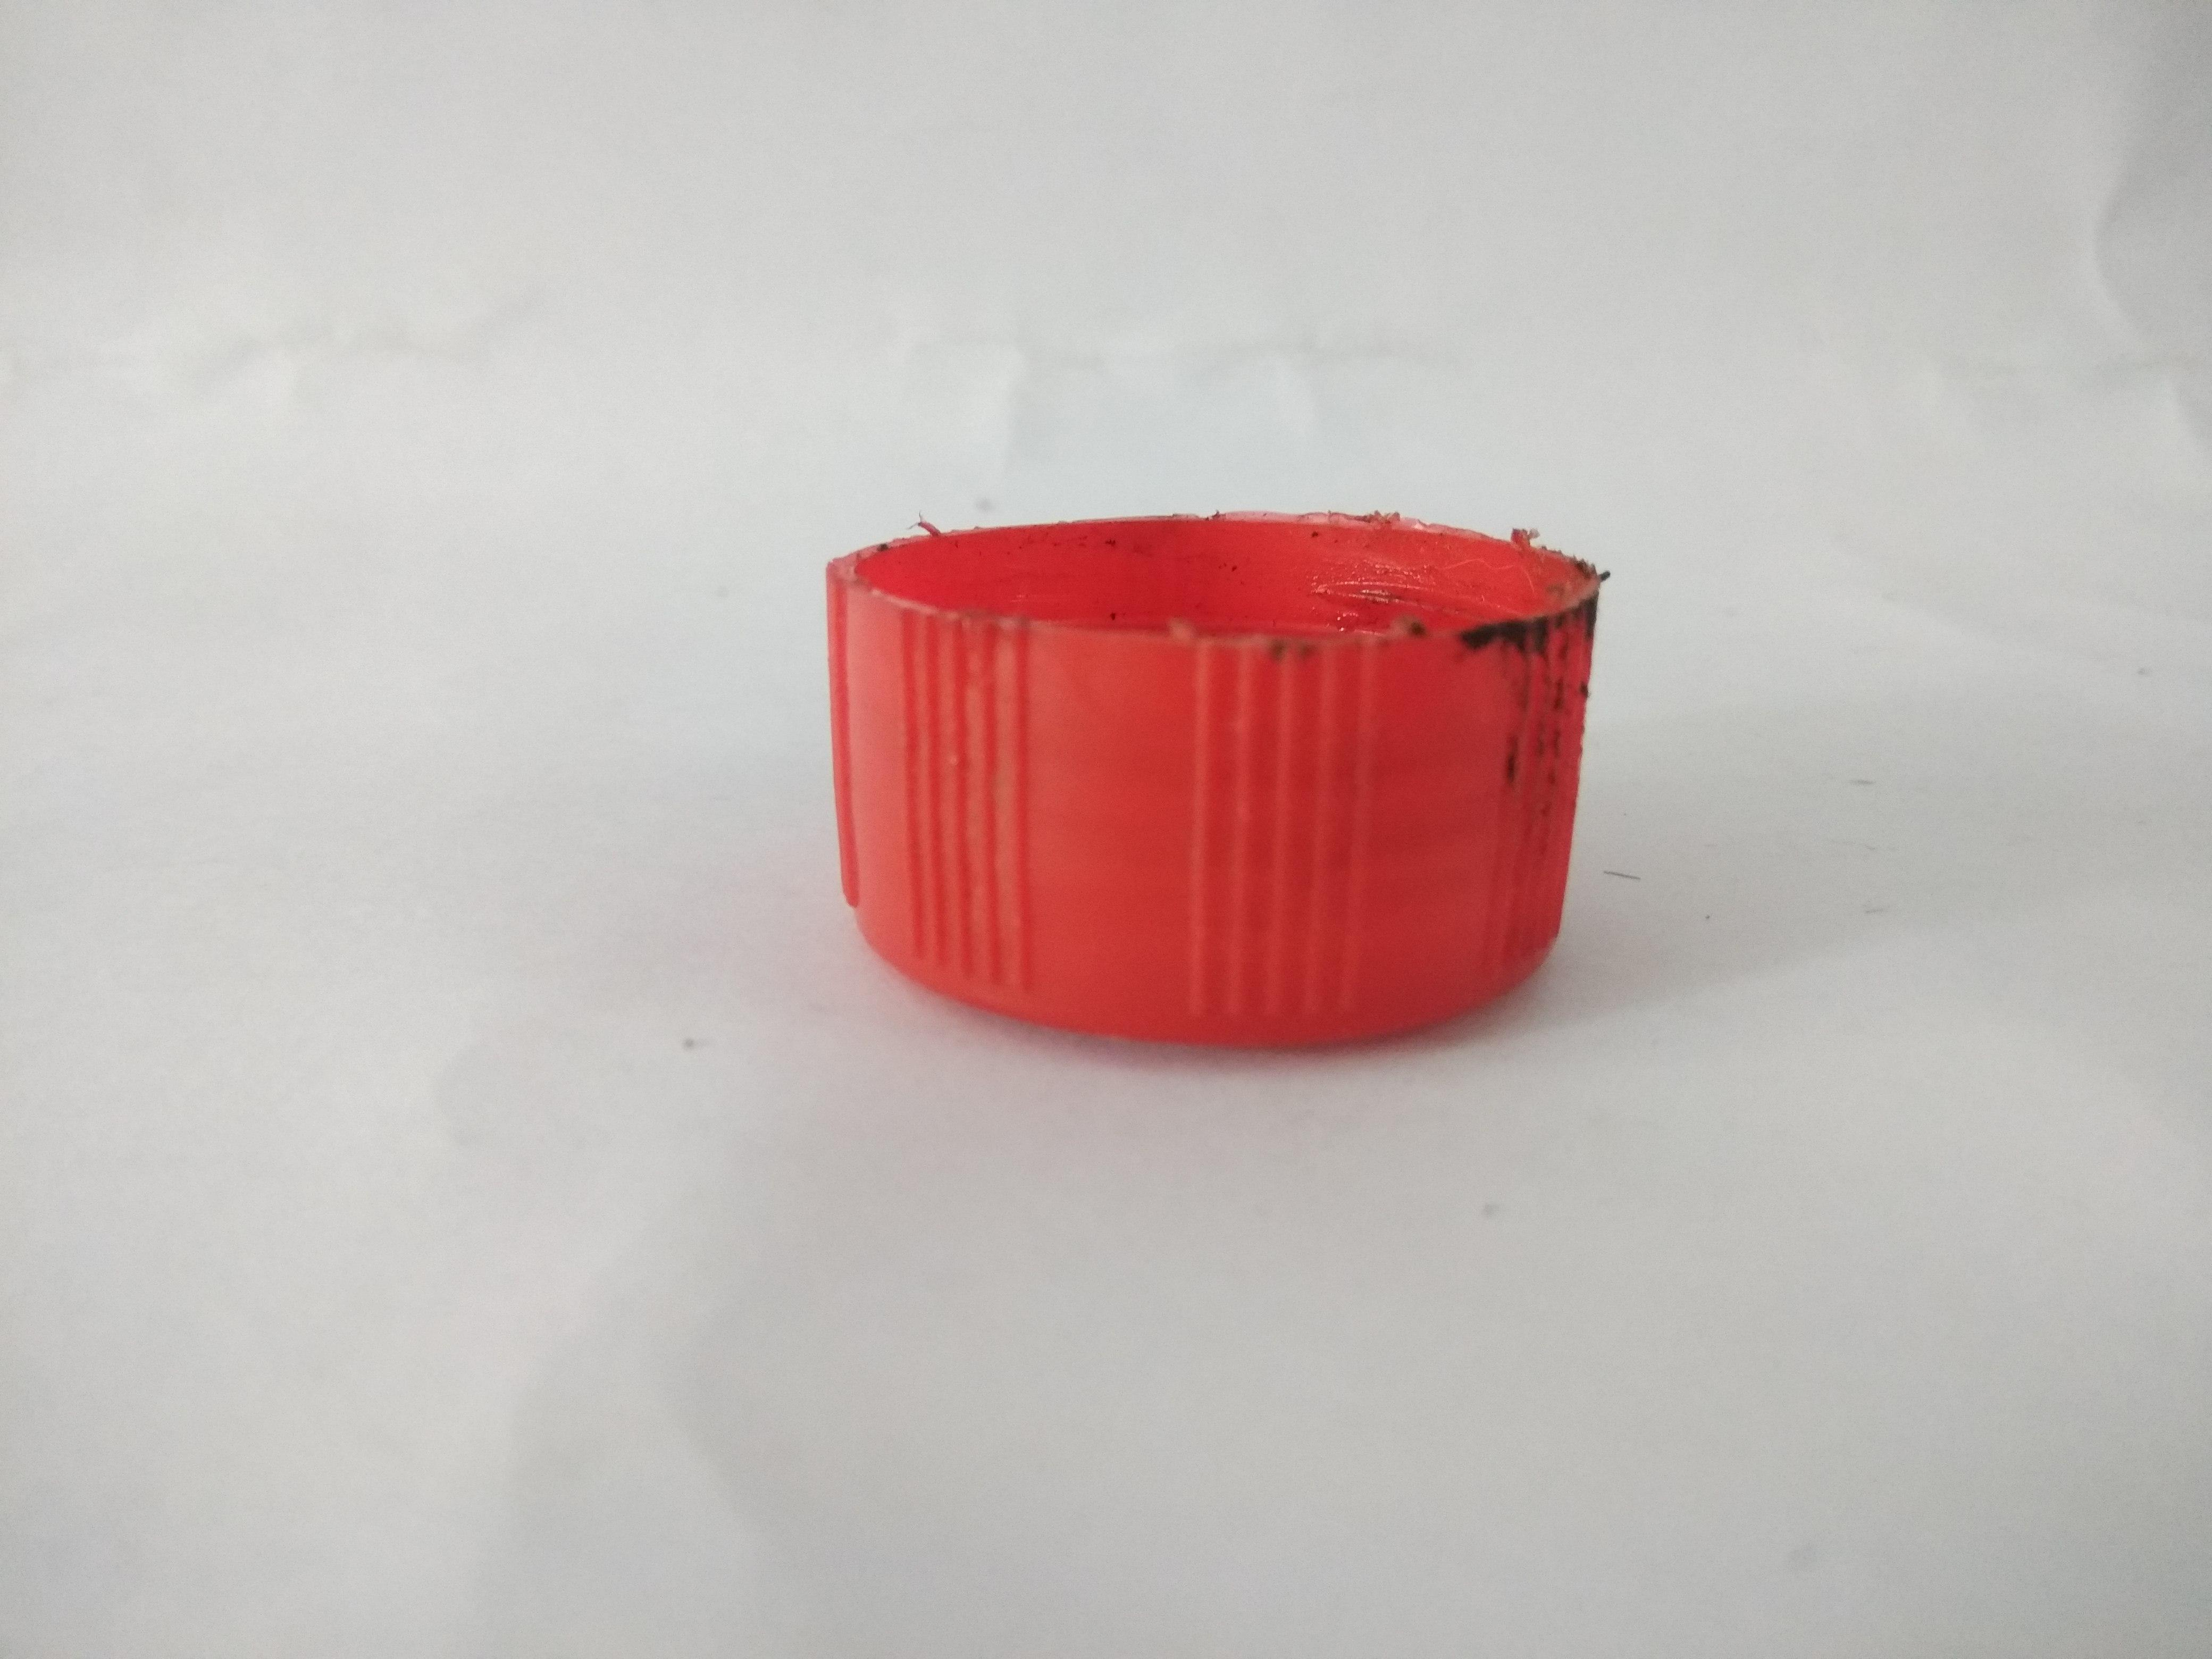HDPE: (629, 364, 1724, 1208)
